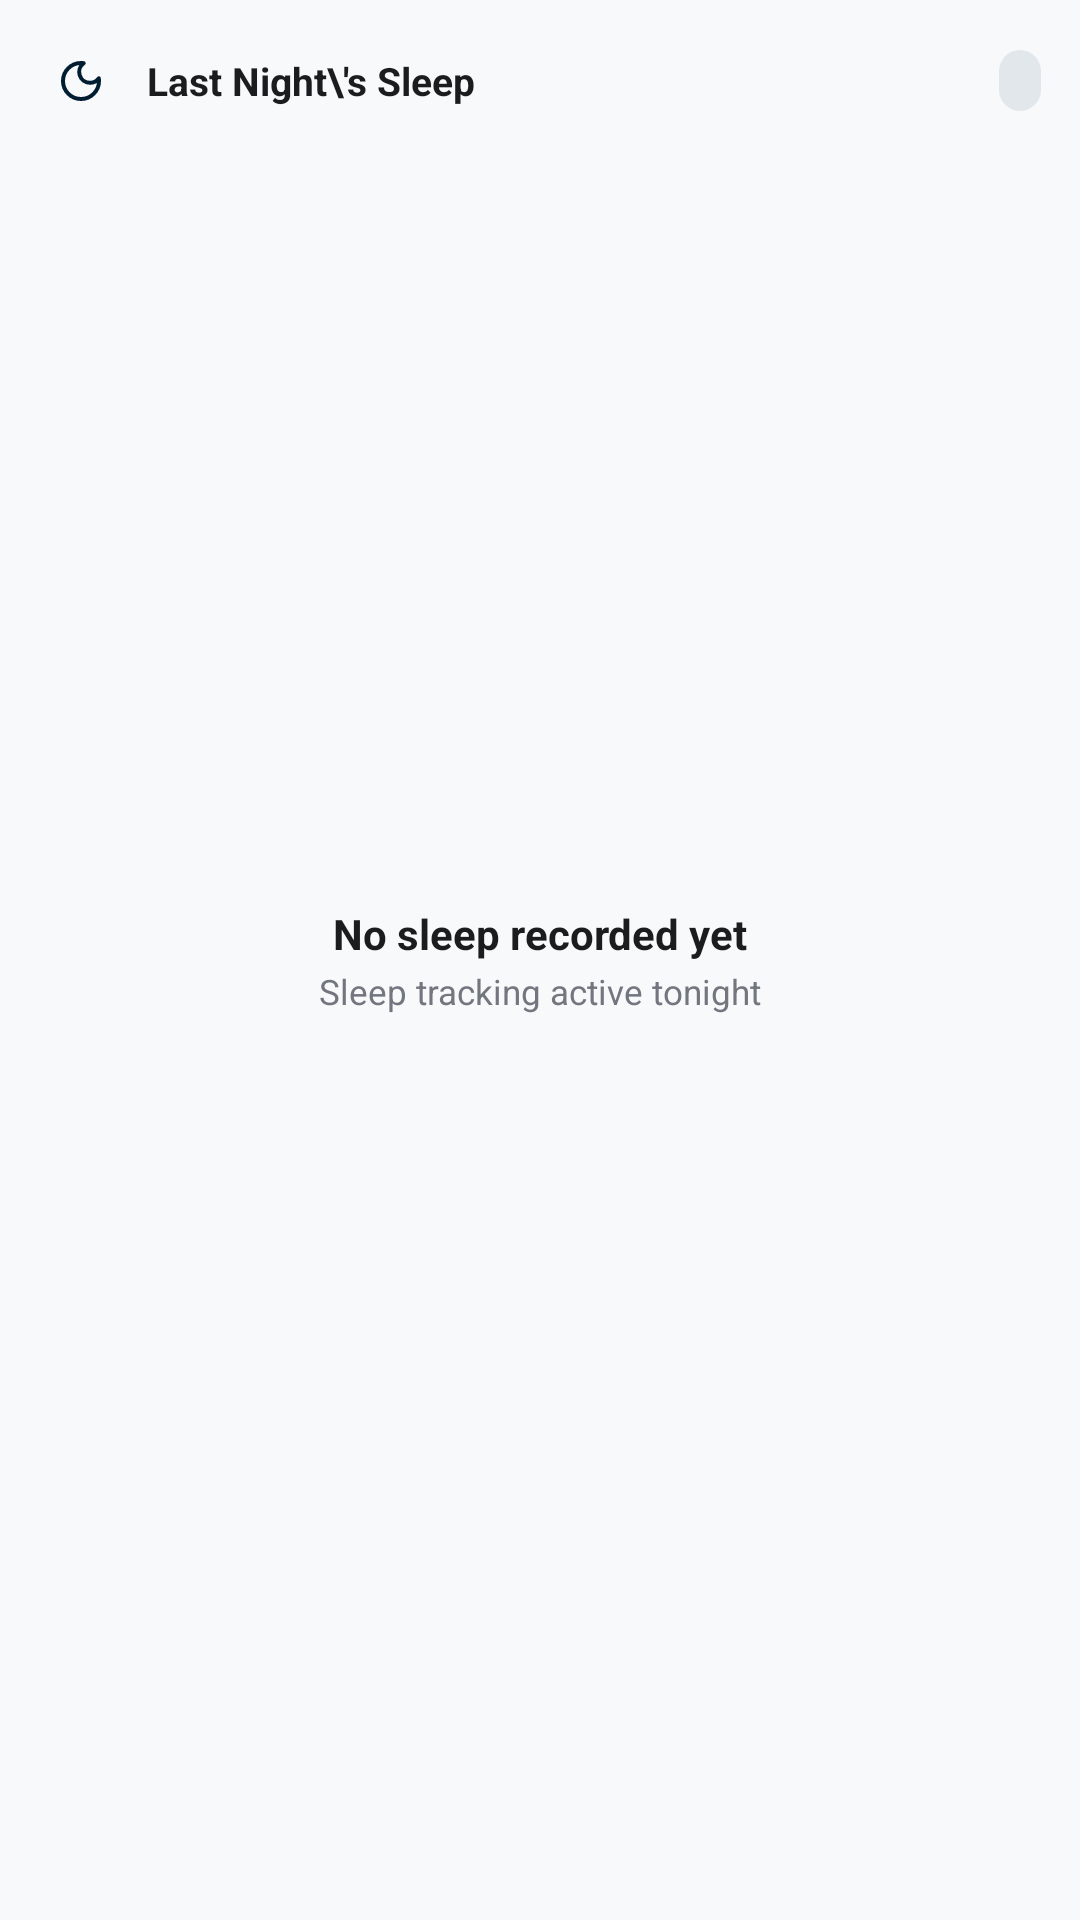

Locate icon controls on the screen. Image size 1080 × 1920, boxes as (x1, y1, x2, y2).
moon: (61, 61, 101, 101)
